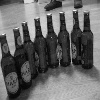beer: (30, 17, 49, 73)
